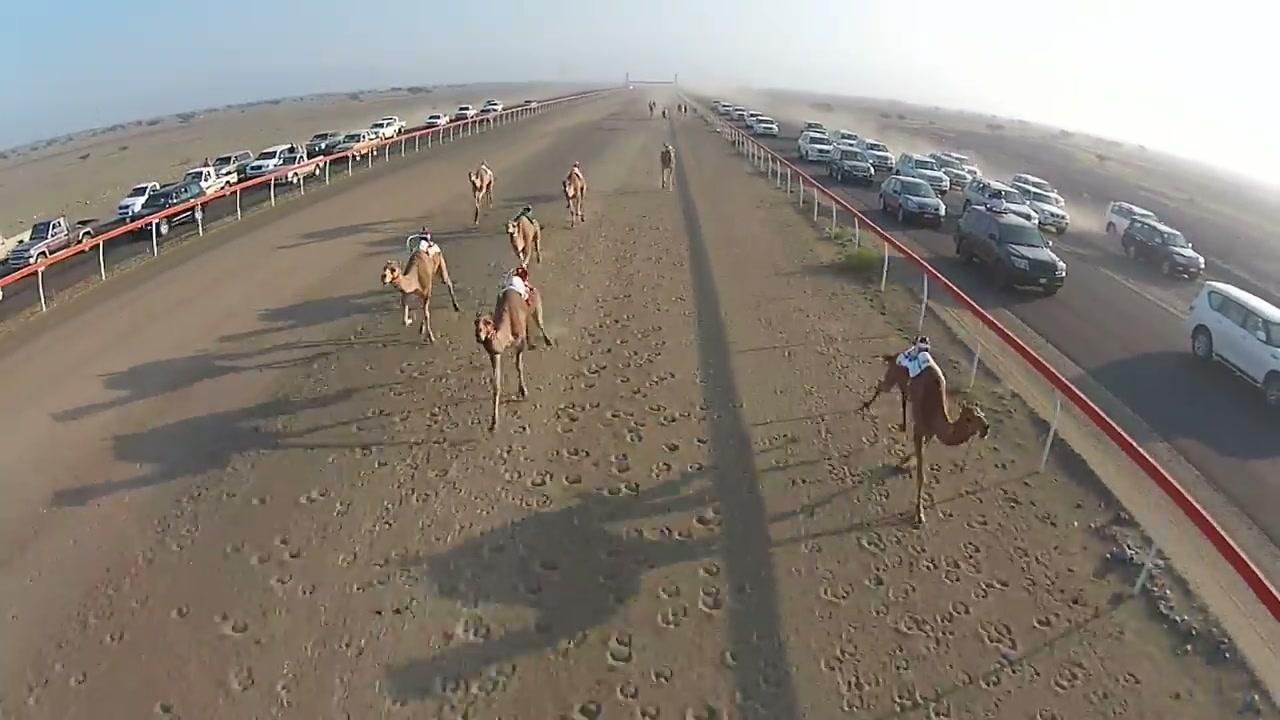animal_footprint: (146, 351, 429, 719), (548, 306, 729, 715), (857, 420, 1086, 719)
